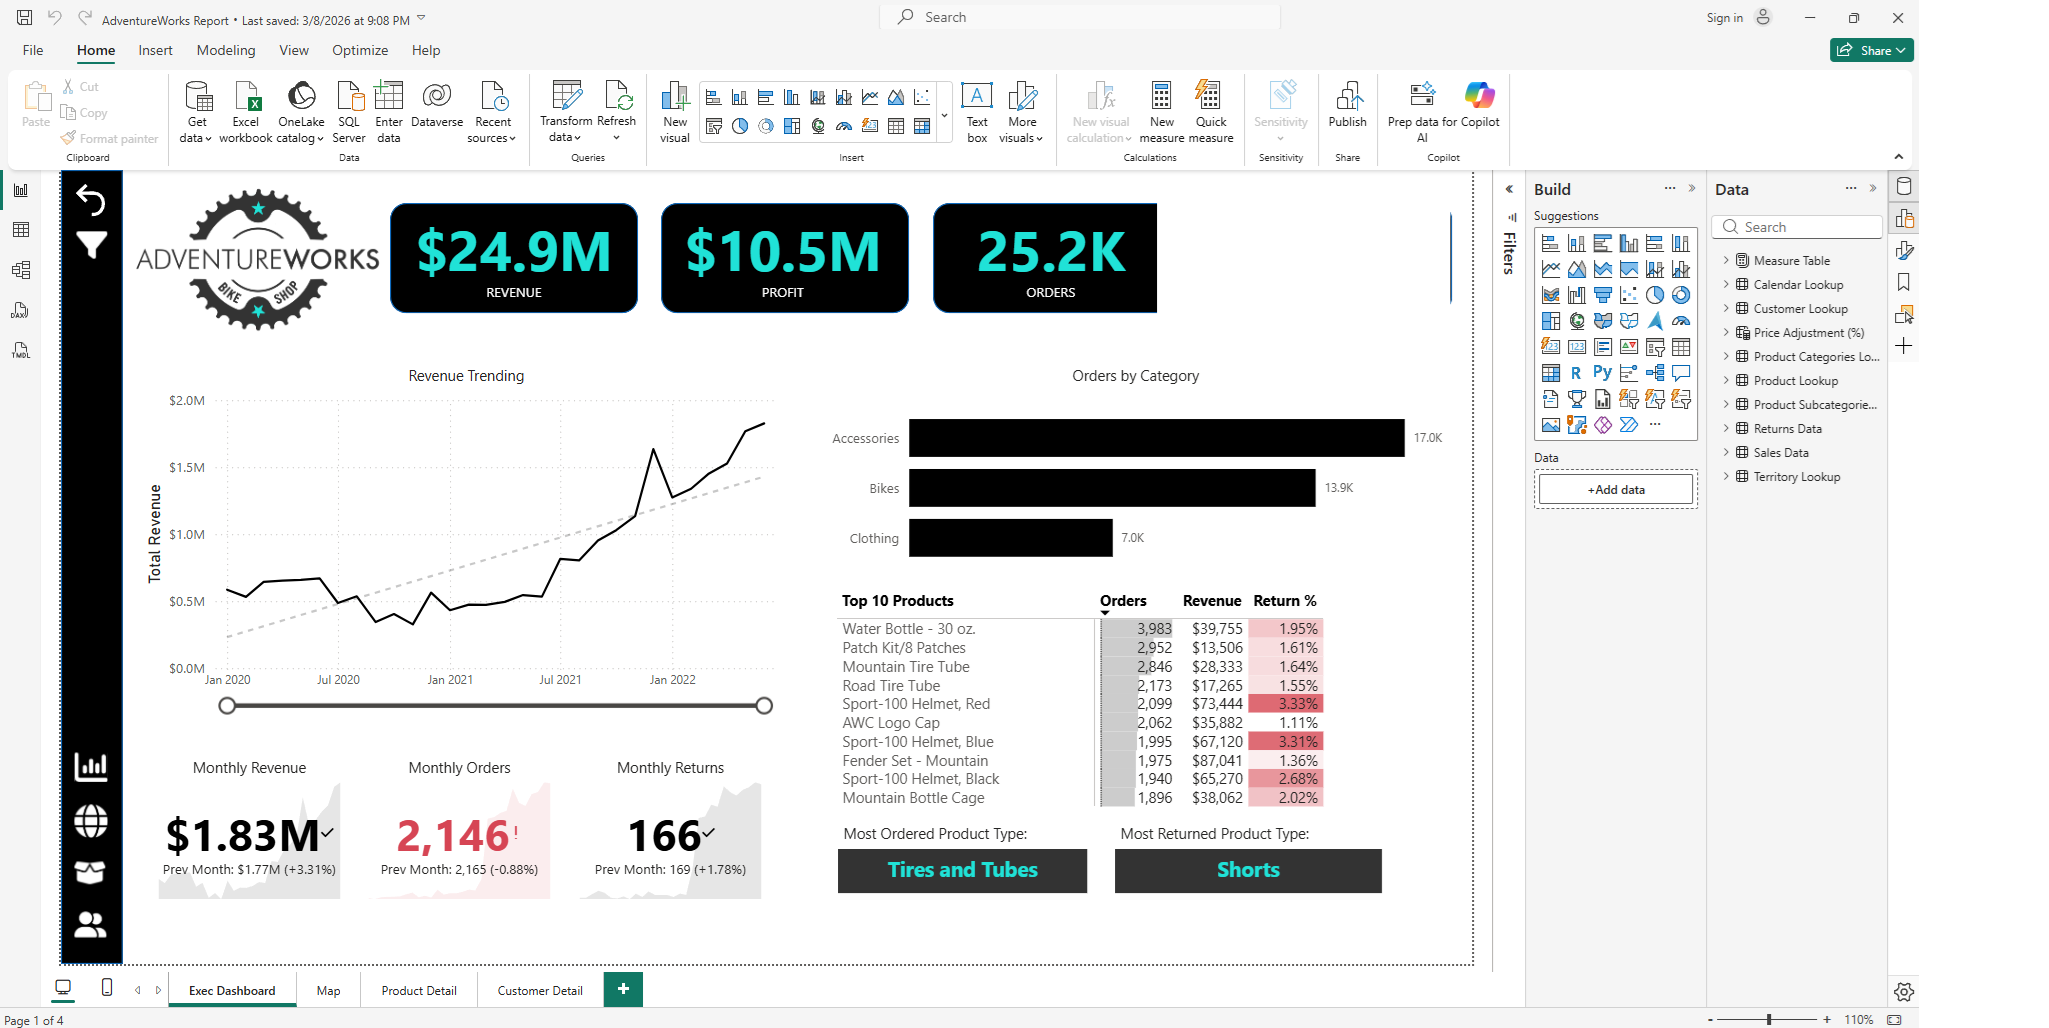

The page's visual inventory and layout, read from the dashboard file:
{"tool":"powerbi","page":{"name":"Exec Dashboard","canvas":[1280,720],"ordinal":0},"visuals":[{"type":"image","title":"AW logo","box":[39,1,280,160],"z":0},{"type":"shape","box":[298,30,225,100],"z":0,"group":"g2"},{"type":"actionButton","box":[8.3,521.2,38.3,39.5],"z":0,"group":"g4"},{"type":"shape","title":"Left Nav Background","box":[0,0,56,720],"z":1000},{"type":"shape","box":[1036,30,225,100],"z":1000,"group":"g2"},{"type":"actionButton","box":[8.3,570.8,38.3,38.3],"z":1000,"group":"g4"},{"type":"group","id":"g1","title":"KPIs","box":[279,0,994,156],"z":2000},{"type":"group","id":"g2","title":"KPI Backgrounds","box":[298,30,963,100],"z":2000,"group":"g1"},{"type":"shape","box":[544,30,225,100],"z":2000,"group":"g2"},{"type":"actionButton","box":[8.3,619.2,38.3,36],"z":2000,"group":"g4"},{"type":"card","fields":{"Values":["Measure Table.Total Revenue"]},"box":[279,0,263,156],"z":2500,"group":"g3"},{"type":"card","fields":{"Values":["Measure Table.Total Profit"]},"box":[522.7,0,263,156],"z":3000,"group":"g3"},{"type":"lineChart","title":"Revenue Trending","fields":{"Y":["Measure Table.Total Revenue"],"Category":["Calendar Lookup.Year","Calendar Lookup.Start of Quarter","Calendar Lookup.Start of Month"]},"box":[72,178,592,319],"z":3000},{"type":"actionButton","box":[8.3,665.1,38.3,37.2],"z":3000,"group":"g4"},{"type":"card","fields":{"Values":["Measure Table.Total Orders"]},"box":[766.3,0,263,156],"z":4000,"group":"g3"},{"type":"shape","box":[790,30,225,100],"z":4000,"group":"g2"},{"type":"kpi","title":"Monthly Revenue","fields":{"Indicator":["Measure Table.Total Revenue"],"TrendLine":["Calendar Lookup.Start of Month"],"Goal":["Measure Table.Previous Month Revenue"]},"box":[83,533,175,133],"z":4000},{"type":"card","fields":{"Values":["Measure Table.Return Rate"]},"box":[1010,0,263,156],"z":5000,"group":"g3"},{"type":"kpi","title":"Monthly Orders","fields":{"TrendLine":["Calendar Lookup.Start of Month"],"Indicator":["Measure Table.Total Orders"],"Goal":["Measure Table.Previous Month Orders"]},"box":[274,533,175,133],"z":5000},{"type":"group","id":"g3","title":"KPI Values","box":[279,0,994,156],"z":5001,"group":"g1"},{"type":"kpi","title":"Monthly Returns","fields":{"TrendLine":["Calendar Lookup.Start of Month"],"Indicator":["Measure Table.Total Returns"],"Goal":["Measure Table.Previous Month Returns"]},"box":[465,533,175,133],"z":6000},{"type":"clusteredBarChart","title":"Orders by Category","fields":{"Category":["Product Categories Lookup.CategoryName"],"Y":["Measure Table.Total Orders"]},"box":[689,178,571,198],"z":7000},{"type":"pivotTable","fields":{"Rows":["Product Lookup.ProductName"],"Values":["Measure Table.Total Orders","Measure Table.Total Revenue","Measure Table.Return Rate"]},"box":[698,376,554,215],"z":8000},{"type":"card","fields":{"Values":["Min(Product Subcategories Lookup.SubcategoryName)"]},"box":[705,616,226,40],"z":9000},{"type":"textbox","box":[705,588,202,28],"z":10000},{"type":"card","fields":{"Values":["Min(Product Subcategories Lookup.SubcategoryName)"]},"box":[956,616,242,40],"z":11000},{"type":"textbox","box":[956,588,202,28],"z":12000},{"type":"actionButton","box":[7,7,40.7,39.5],"z":13000},{"type":"group","id":"g4","title":"Navigation buttons","box":[8.3,521.2,37.5,180.7],"z":14000},{"type":"textbox","box":[994,0,266,156],"z":15000},{"type":"actionButton","box":[10,49.9,36.3,37.2],"z":16000}]}

Visuals, with their boxes on the page's 1280x720 design canvas (x1, y1, x2, y2). These are canvas units, not pixel positions in the 2049x1028 screenshot, which may show the page scaled, cropped or inside an application window:
"AW logo" image: l=39, t=1, r=319, b=161
shape: l=298, t=30, r=523, b=130
actionButton: l=8, t=521, r=47, b=561
"Left Nav Background" shape: l=0, t=0, r=56, b=720
shape: l=1036, t=30, r=1261, b=130
actionButton: l=8, t=571, r=47, b=609
"KPIs" group: l=279, t=0, r=1273, b=156
"KPI Backgrounds" group: l=298, t=30, r=1261, b=130
shape: l=544, t=30, r=769, b=130
actionButton: l=8, t=619, r=47, b=655
card - Measure Table.Total Revenue: l=279, t=0, r=542, b=156
card - Measure Table.Total Profit: l=523, t=0, r=786, b=156
"Revenue Trending" lineChart: l=72, t=178, r=664, b=497
actionButton: l=8, t=665, r=47, b=702
card - Measure Table.Total Orders: l=766, t=0, r=1029, b=156
shape: l=790, t=30, r=1015, b=130
"Monthly Revenue" kpi: l=83, t=533, r=258, b=666
card - Measure Table.Return Rate: l=1010, t=0, r=1273, b=156
"Monthly Orders" kpi: l=274, t=533, r=449, b=666
"KPI Values" group: l=279, t=0, r=1273, b=156
"Monthly Returns" kpi: l=465, t=533, r=640, b=666
"Orders by Category" clusteredBarChart: l=689, t=178, r=1260, b=376
pivotTable - Product Lookup.ProductName x Measure Table.Total Orders: l=698, t=376, r=1252, b=591
card - Min(Product Subcategories Lookup.SubcategoryName): l=705, t=616, r=931, b=656
textbox: l=705, t=588, r=907, b=616
card - Min(Product Subcategories Lookup.SubcategoryName): l=956, t=616, r=1198, b=656
textbox: l=956, t=588, r=1158, b=616
actionButton: l=7, t=7, r=48, b=46
"Navigation buttons" group: l=8, t=521, r=46, b=702
textbox: l=994, t=0, r=1260, b=156
actionButton: l=10, t=50, r=46, b=87
